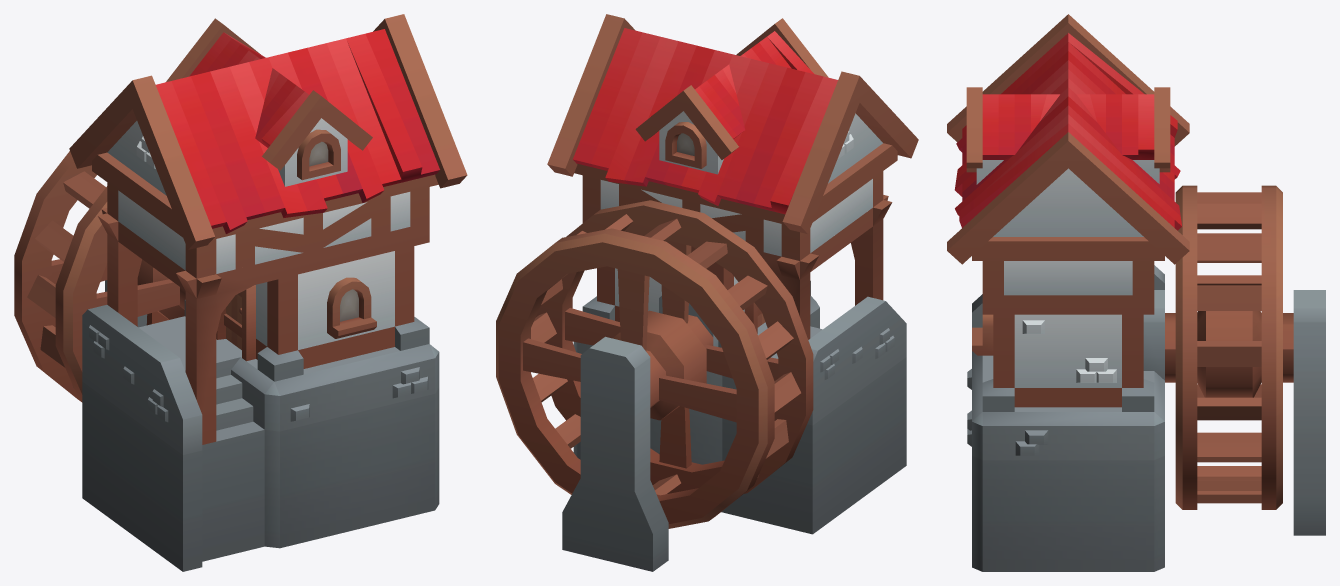
Rendered from watermill.glb.
The picture shows the model from 3 angles, left to right: view 1: azimuth 30°, elevation 25°; view 2: azimuth 150°, elevation 25°; view 3: azimuth 270°, elevation 25°; orthographic projection. The views are drawn at different scales.
Visible parts, largest first — view 1: building_watermill_red, building_watermill_wheel_red; view 2: building_watermill_red, building_watermill_wheel_red; view 3: building_watermill_red, building_watermill_wheel_red.
Part boxes in pixels (x1=…): building_watermill_red: x1=69, y1=14, x2=467, y2=571; building_watermill_wheel_red: x1=14, y1=151, x2=185, y2=402; building_watermill_red: x1=547, y1=14, x2=918, y2=571; building_watermill_wheel_red: x1=496, y1=200, x2=813, y2=528; building_watermill_red: x1=947, y1=14, x2=1325, y2=571; building_watermill_wheel_red: x1=1165, y1=185, x2=1293, y2=509.
Bounding box in the file's own units: 1.05 × 1.57 × 1.24.
1 material, 1 textured.
